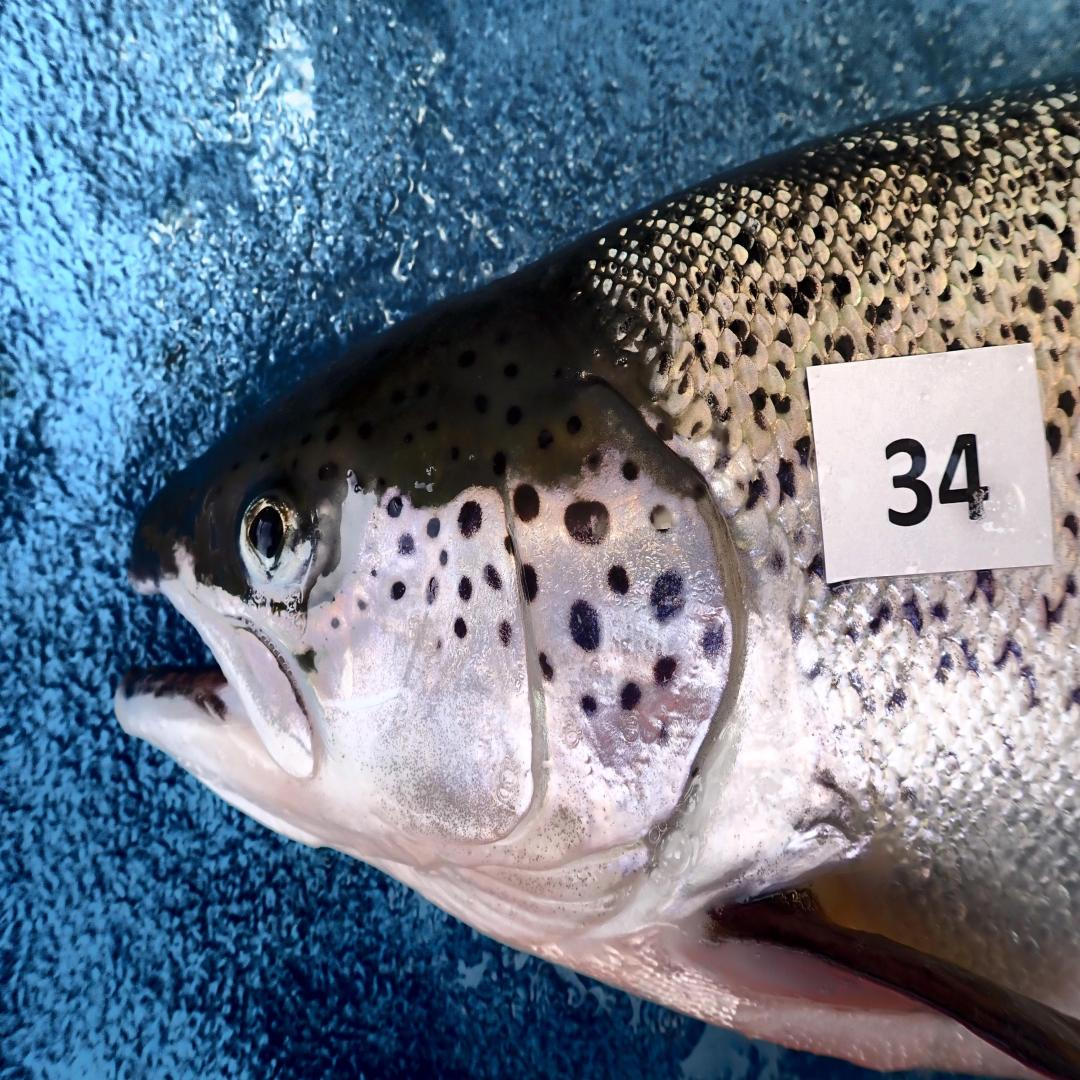spot: (565, 501, 610, 546), (650, 571, 683, 622), (570, 599, 599, 650), (700, 613, 728, 661), (513, 484, 540, 523), (458, 501, 483, 537), (654, 655, 677, 686), (650, 503, 673, 532), (608, 565, 629, 596), (620, 681, 641, 712), (523, 565, 538, 602), (582, 450, 605, 472), (397, 532, 416, 557), (652, 720, 671, 745), (485, 565, 502, 591), (538, 652, 553, 681), (498, 619, 513, 647), (622, 458, 639, 481), (580, 695, 597, 717), (426, 577, 439, 605), (458, 577, 472, 602), (386, 498, 403, 518), (390, 579, 405, 599), (426, 518, 441, 537), (454, 616, 466, 638), (504, 534, 515, 554), (356, 596, 367, 613), (439, 548, 447, 565), (331, 617, 340, 629), (436, 638, 443, 649), (370, 567, 376, 577)
